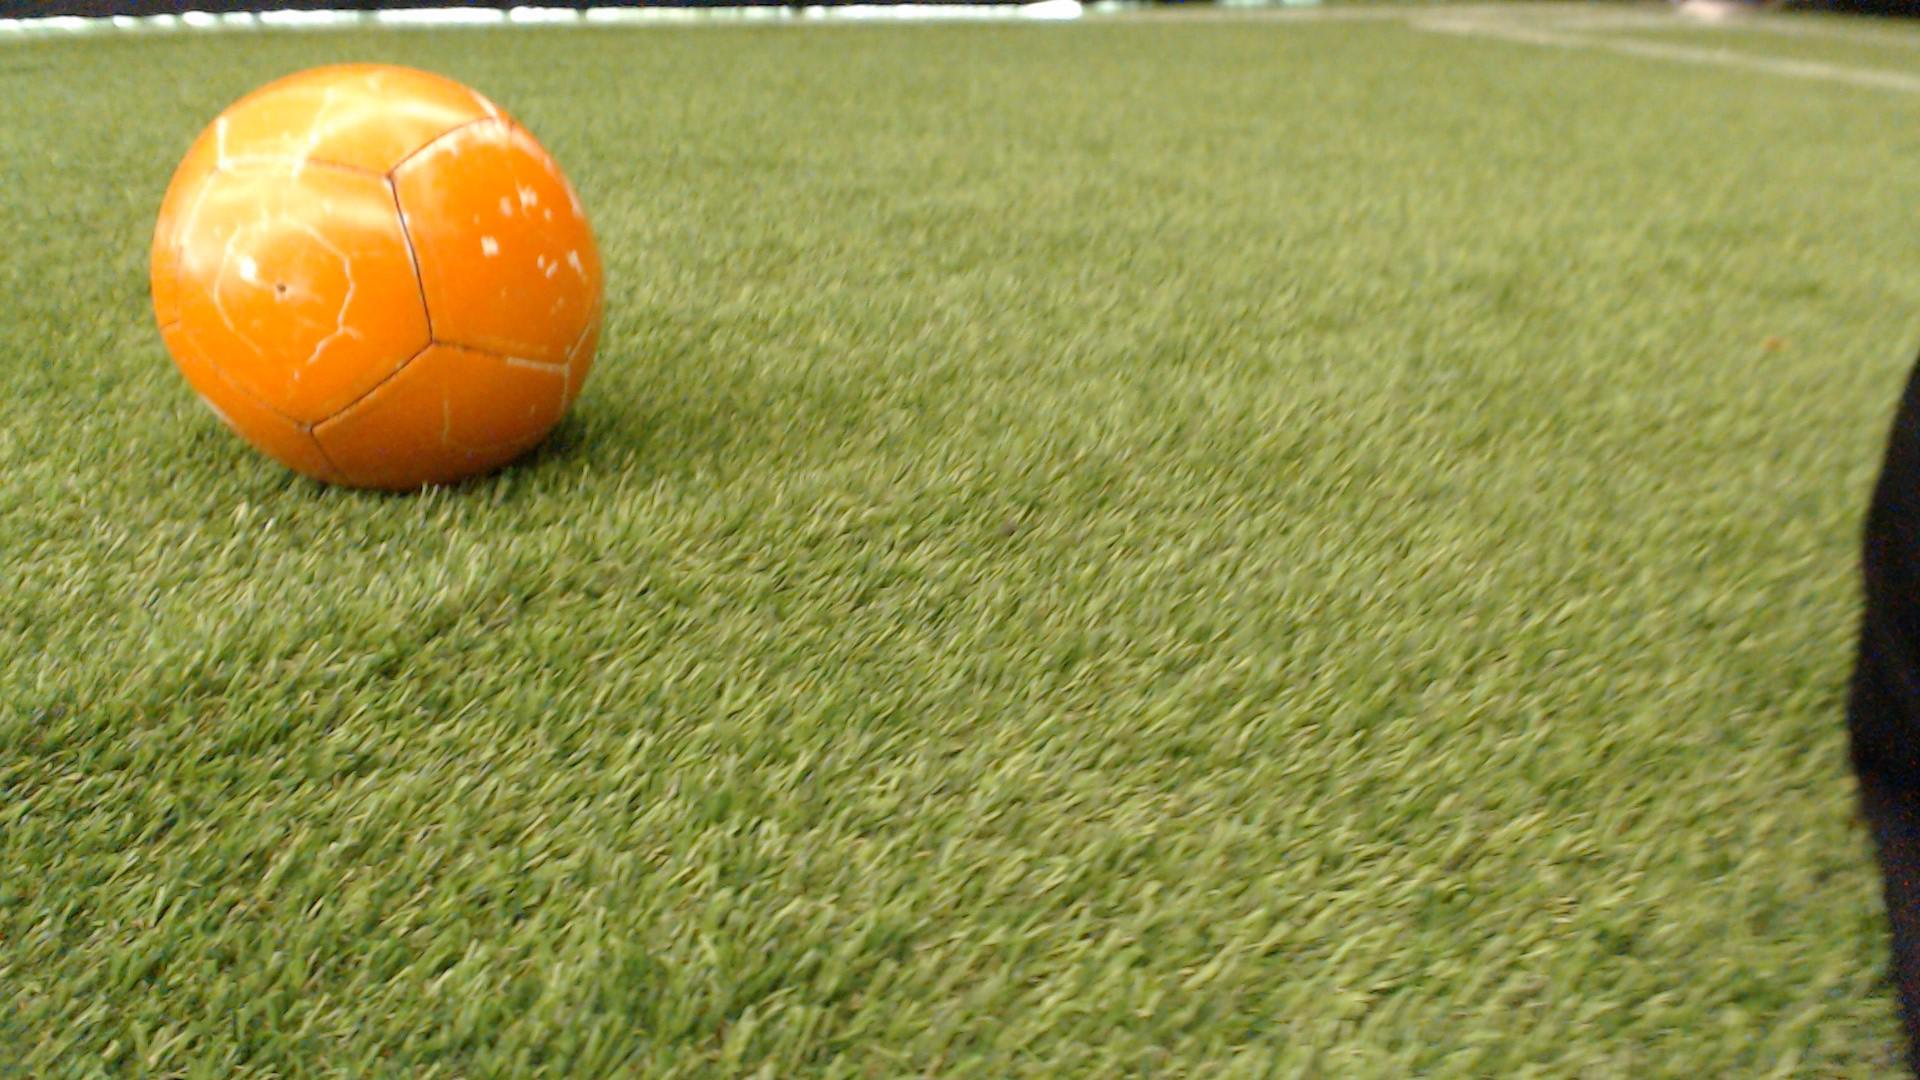bola: (125, 56, 656, 508)
